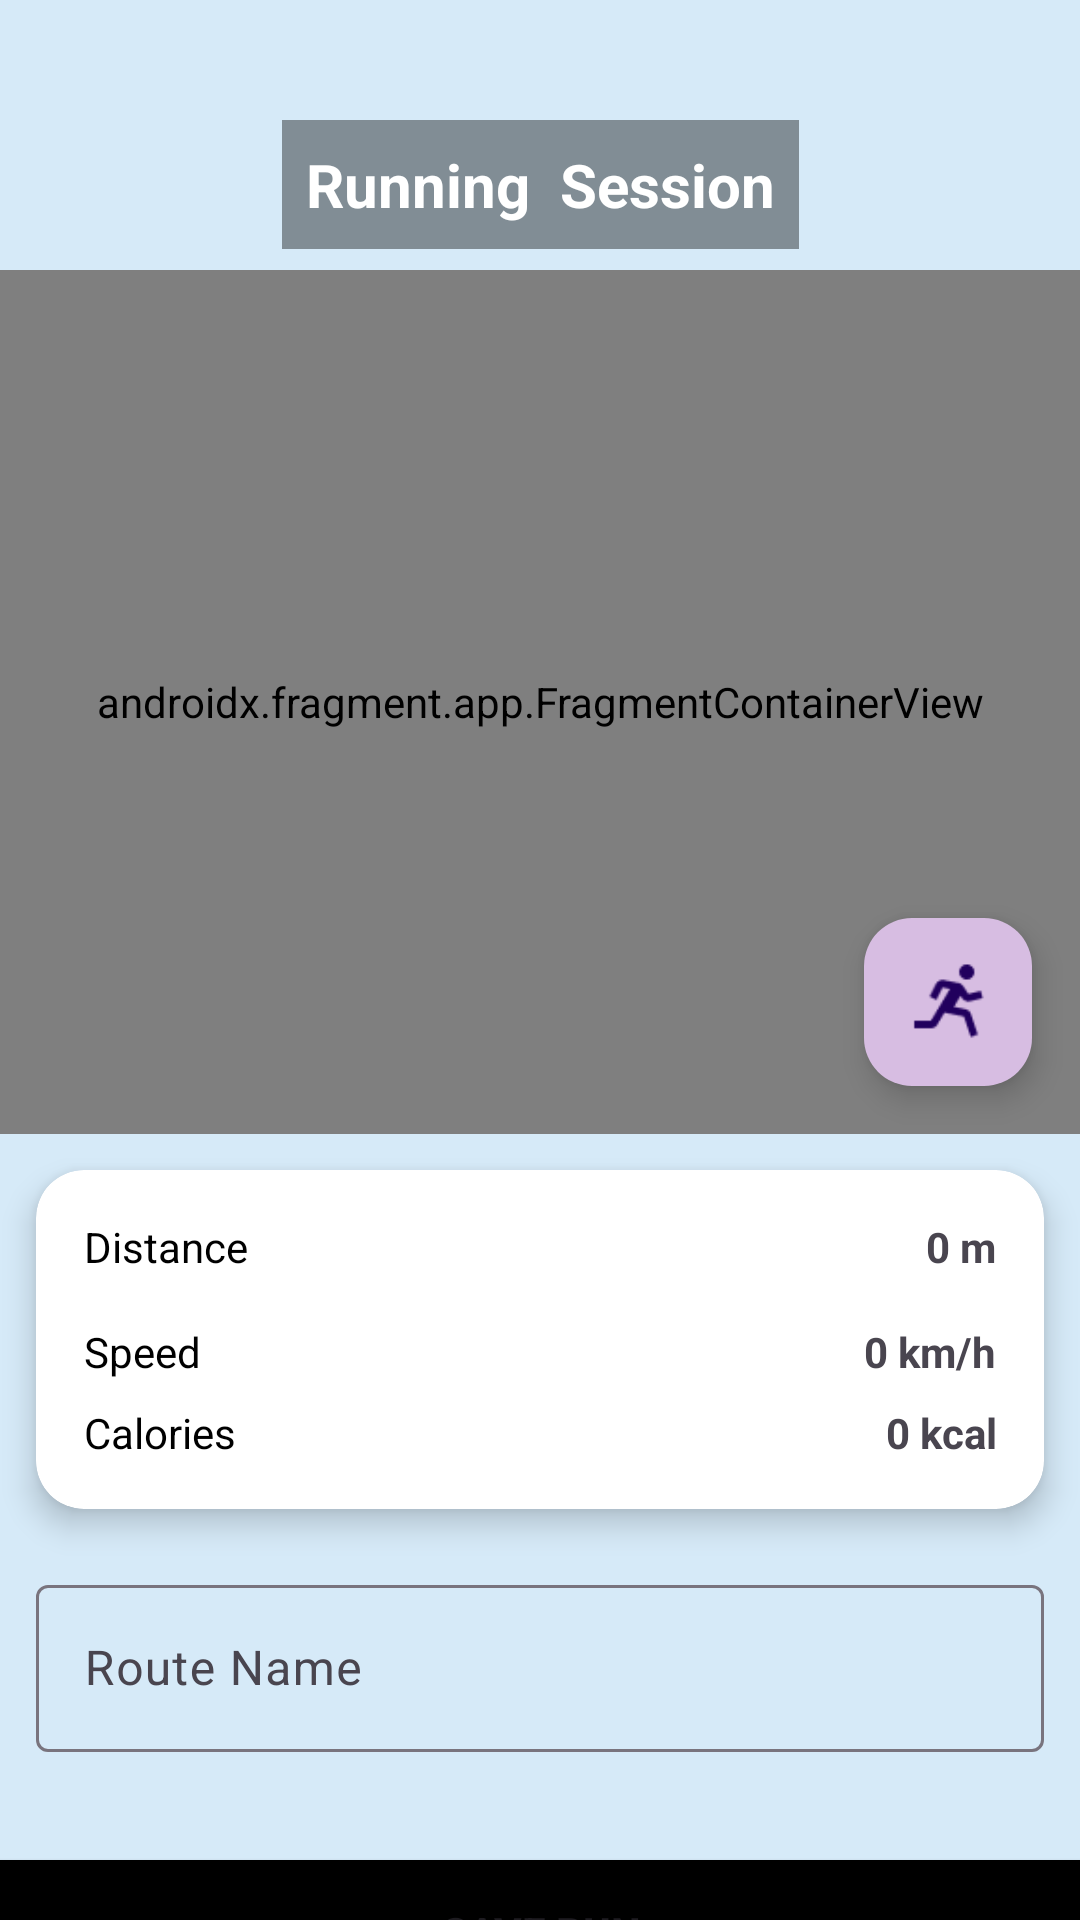

Named icons in this screenshot (1080 × 1920) and their centers, (x=x, y=y):
Start Track: (x=948, y=1002)
